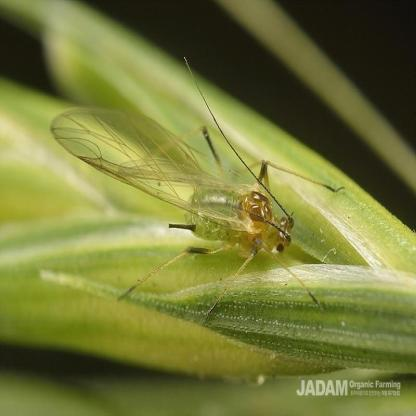aphid: (51, 71, 342, 327)
